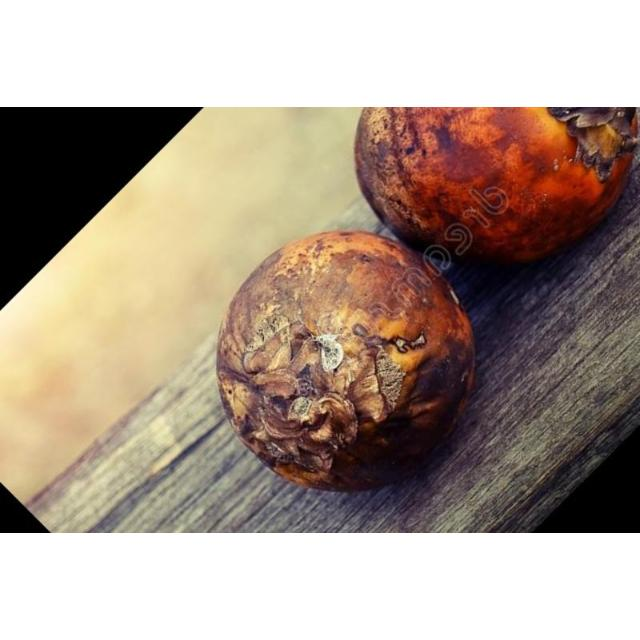damaged: (215, 233, 475, 493), (353, 107, 639, 267)
